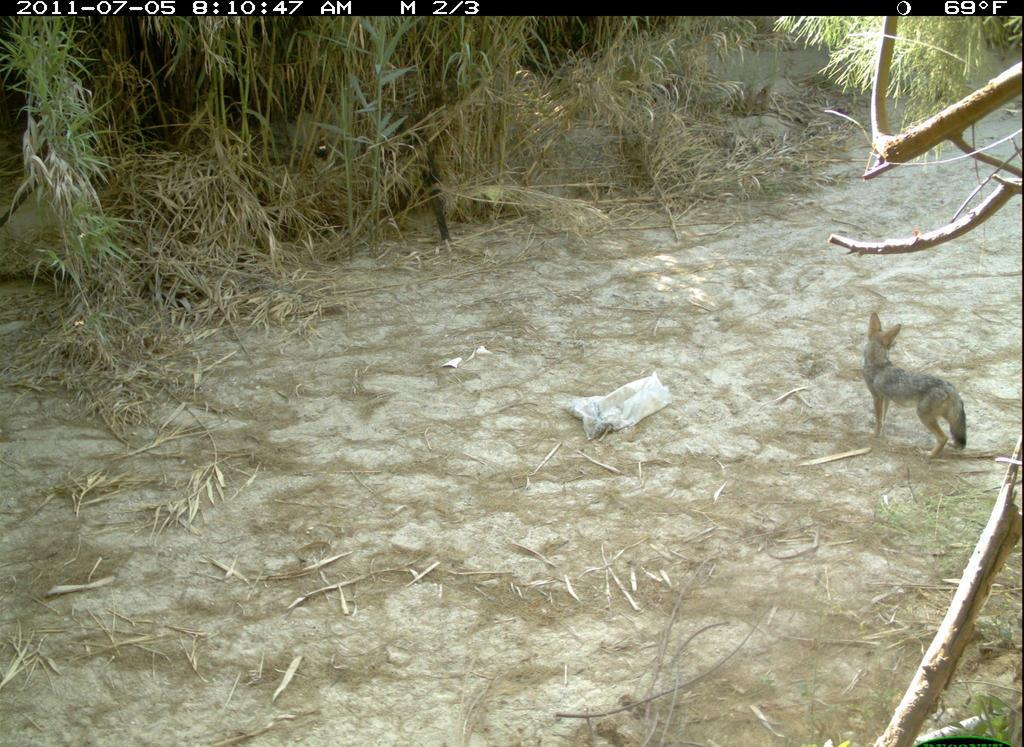coyote: (827, 305, 977, 465)
